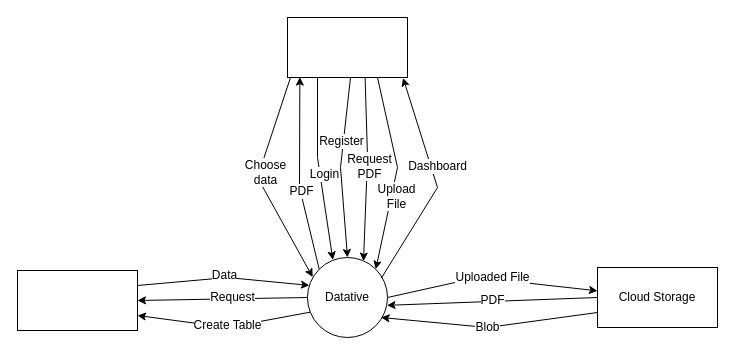
Image size: 735x355. Some labels were removed from this diagram. The shapes that lost their labels are listed below. From the top down, each one's box as (x1, y1, x2, y2) in pixels, then its label:
(286, 16, 408, 78): User
(16, 270, 138, 330): Cloud SQL
